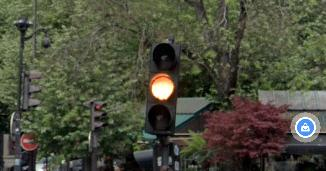yellow_light: (144, 42, 181, 134)
